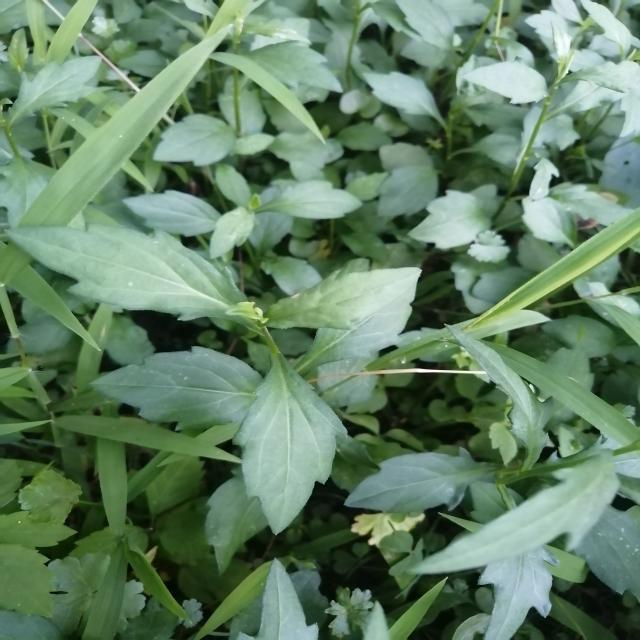Indian aster: (34, 208, 441, 511)
